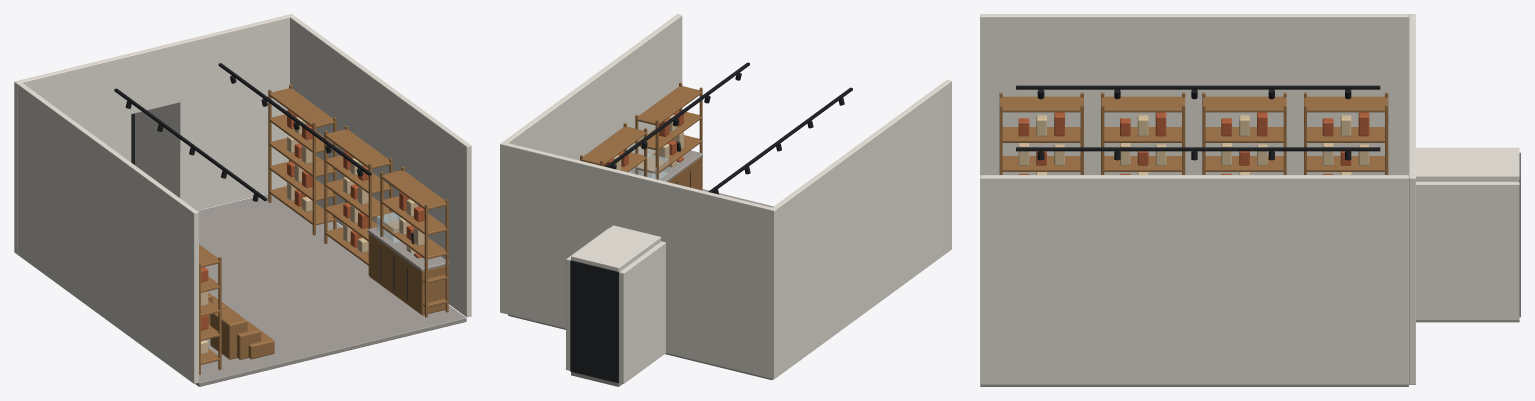
File: TOE_TET_REFINED_V1_2.glb
3 renders of one model, left to right at view 1: azimuth 30°, elevation 25°; view 2: azimuth 150°, elevation 25°; view 3: azimuth 270°, elevation 25°, orthographic. The views are drawn at different scales.
Parts seen in each view (by area): view 1: WALL_LEFT, WALL_REAR, FLOOR_MICROCEMENT_5238x6000, WALL_RIGHT, CHECKOUT_OAK_CARCASS, REAR_PASSAGE_WALL_RIGHT, P1_TIER_3, S7_SHELF_5, S6_SHELF_5, S5_SHELF_5, CHECKOUT_MICROCEMENT_TOP, TRACK_RAIL_-1.0 (+19 smaller); view 2: WALL_REAR, WALL_LEFT, WALL_RIGHT, REAR_PASSAGE_DEPTH_SHADOW, REAR_PASSAGE_WALL_LEFT, REAR_PASSAGE_CEILING, S5_SHELF_5, S6_SHELF_5, TRACK_RAIL_-1.0, TRACK_RAIL_+1.0, S5_SHELF_3, REAR_PASSAGE_WALL_RIGHT (+5 smaller); view 3: WALL_RIGHT, WALL_LEFT, REAR_PASSAGE_WALL_RIGHT, REAR_PASSAGE_CEILING, WALL_REAR, TRACK_RAIL_+1.0, TRACK_RAIL_-1.0, S1_SHELF_5, S3_SHELF_5, S4_SHELF_5, S2_SHELF_5, S1_SHELF_3 (+8 smaller).
Part boxes in pixels (bbox=[...]): WALL_LEFT: bbox=[17, 82, 198, 383]; WALL_REAR: bbox=[14, 14, 294, 253]; FLOOR_MICROCEMENT_5238x6000: bbox=[195, 194, 466, 386]; WALL_RIGHT: bbox=[290, 16, 471, 317]; CHECKOUT_OAK_CARCASS: bbox=[369, 234, 445, 315]; REAR_PASSAGE_WALL_RIGHT: bbox=[135, 103, 178, 196]; P1_TIER_3: bbox=[210, 307, 247, 359]; S7_SHELF_5: bbox=[268, 88, 334, 127]; S6_SHELF_5: bbox=[325, 129, 392, 168]; S5_SHELF_5: bbox=[380, 170, 446, 209]; CHECKOUT_MICROCEMENT_TOP: bbox=[367, 227, 449, 271]; TRACK_RAIL_-1.0: bbox=[114, 88, 267, 200]; WALL_REAR: bbox=[500, 142, 776, 379]; WALL_LEFT: bbox=[773, 79, 951, 376]; WALL_RIGHT: bbox=[503, 14, 682, 173]; REAR_PASSAGE_DEPTH_SHADOW: bbox=[570, 260, 618, 383]; REAR_PASSAGE_WALL_LEFT: bbox=[619, 241, 665, 383]; REAR_PASSAGE_CEILING: bbox=[571, 225, 660, 271]; S5_SHELF_5: bbox=[635, 86, 702, 125]; S6_SHELF_5: bbox=[581, 126, 647, 165]; TRACK_RAIL_-1.0: bbox=[708, 87, 852, 192]; TRACK_RAIL_+1.0: bbox=[605, 62, 749, 167]; S5_SHELF_3: bbox=[637, 135, 702, 173]; REAR_PASSAGE_WALL_RIGHT: bbox=[566, 228, 608, 370]; WALL_RIGHT: bbox=[980, 175, 1408, 384]; WALL_LEFT: bbox=[980, 14, 1408, 175]; REAR_PASSAGE_WALL_RIGHT: bbox=[1416, 181, 1519, 320]; REAR_PASSAGE_CEILING: bbox=[1416, 147, 1519, 181]; WALL_REAR: bbox=[1409, 14, 1415, 384]; TRACK_RAIL_+1.0: bbox=[1016, 147, 1380, 151]; TRACK_RAIL_-1.0: bbox=[1016, 85, 1380, 89]; S1_SHELF_5: bbox=[999, 96, 1083, 112]; S3_SHELF_5: bbox=[1202, 96, 1286, 112]; S4_SHELF_5: bbox=[1304, 96, 1388, 112]; S2_SHELF_5: bbox=[1101, 96, 1185, 112]; S1_SHELF_3: bbox=[1000, 156, 1082, 171].
Bounding box in the file's own units: 5.44 × 3.28 × 7.57.
